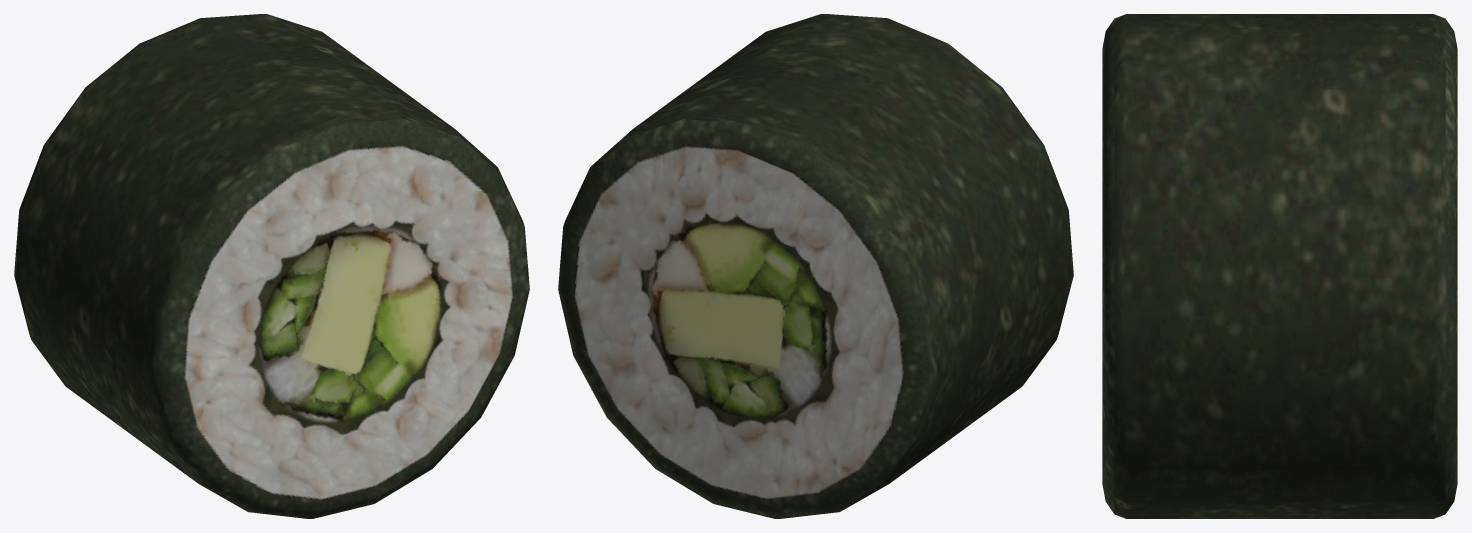
File: 0-maki_green.fbx
3 views of the same model, side by side, from view 1: azimuth 30°, elevation 25°; view 2: azimuth 150°, elevation 25°; view 3: azimuth 270°, elevation 25° (orthographic). The views are drawn at different scales.
Visible parts, largest first — view 1: 0-maki_green; view 2: 0-maki_green; view 3: 0-maki_green.
Boxes of the visible parts, box(x1,y1,x2,y2) form: 0-maki_green: box(14, 14, 529, 518); 0-maki_green: box(558, 14, 1073, 518); 0-maki_green: box(1102, 14, 1457, 518).
Size of the model in its own units: 94.94 by 94.61 by 66.73.
